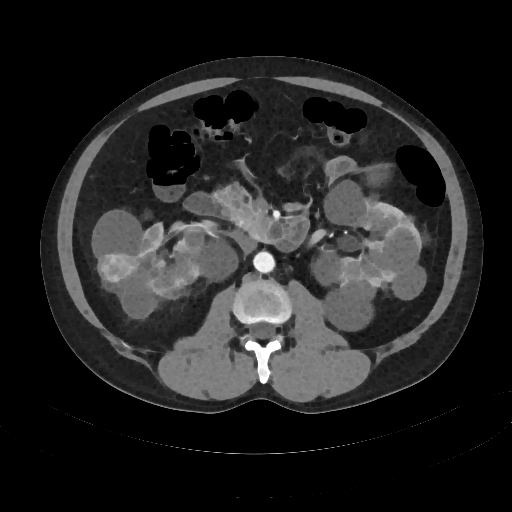Lesion: (94, 252, 141, 287)
